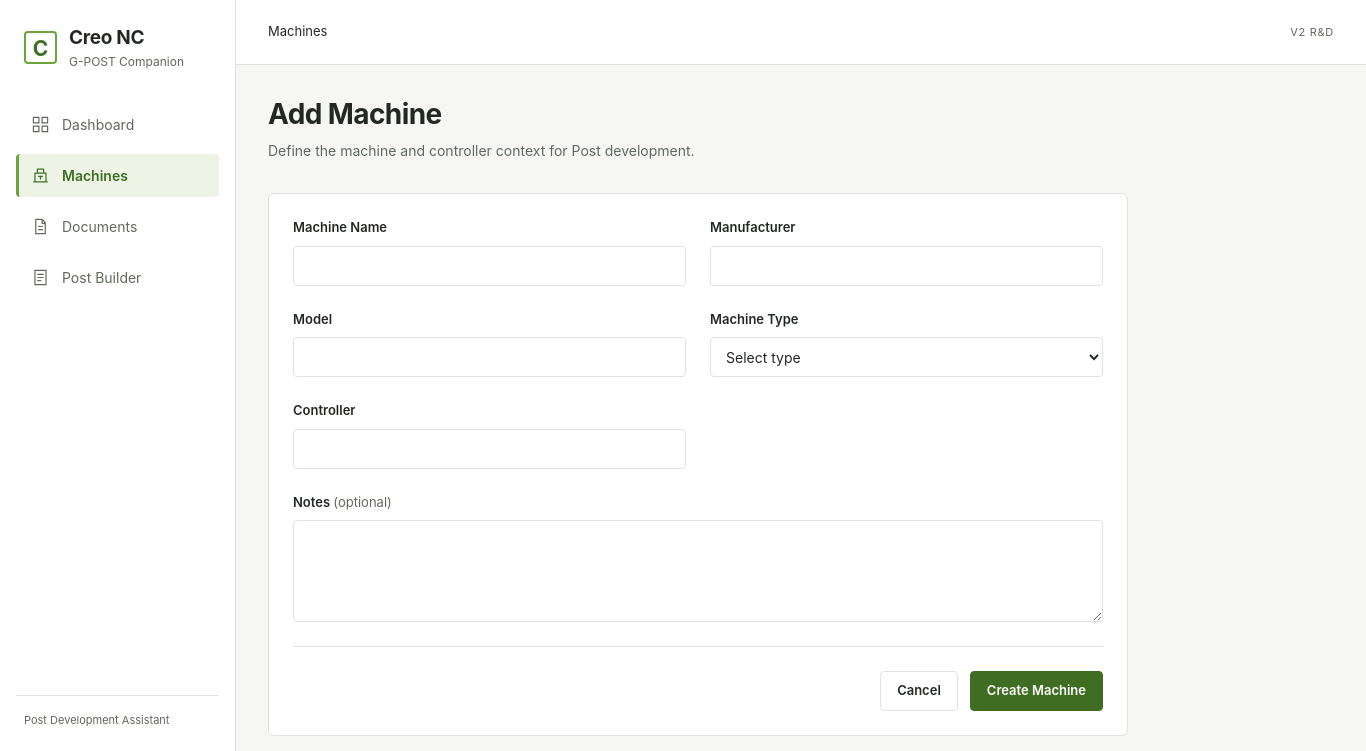
Test: Machine management › shows backend validation and preserves entered values
In the field labelled "Machine Name": (490, 266) x1=293 y1=246 x2=686 y2=286, type " KLS-1840N Demo "
In the field labelled "Manufacturer": (906, 266) x1=710 y1=246 x2=1103 y2=286, type " KENT "
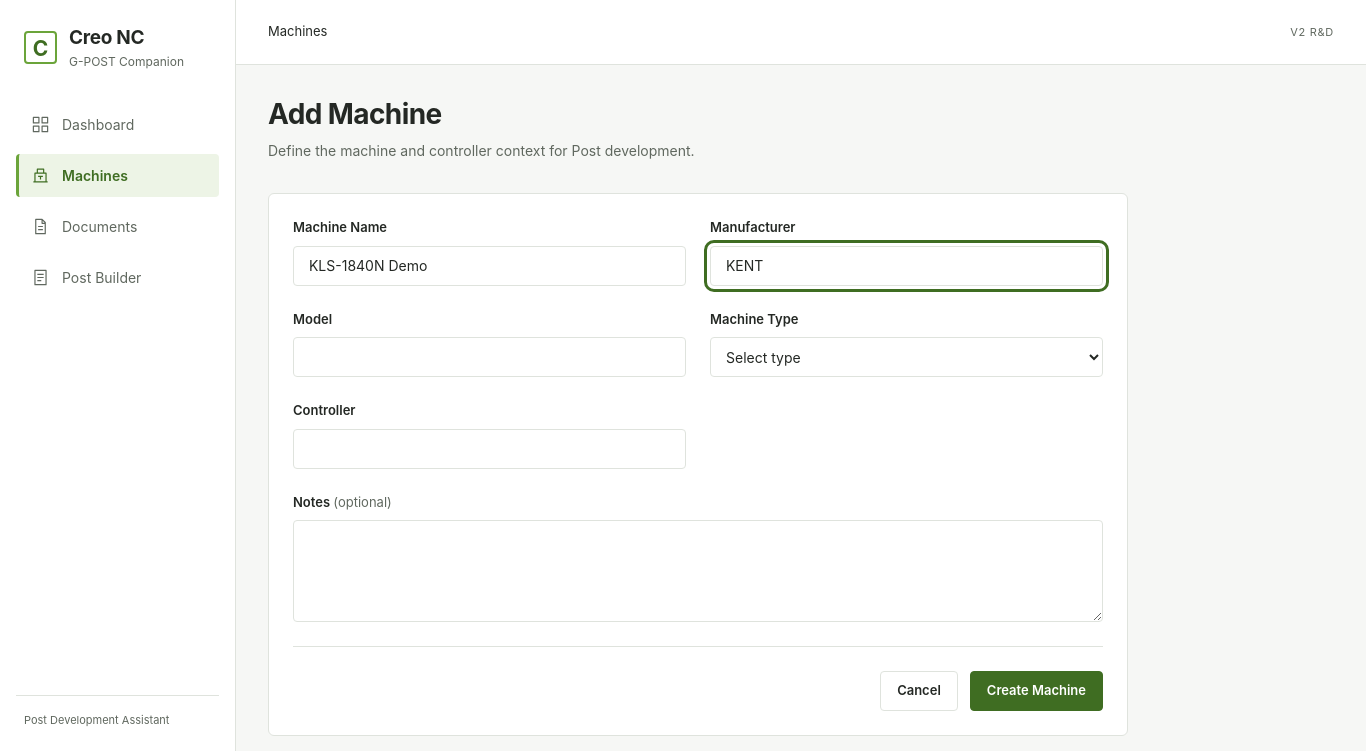
In the field labelled "Model": (490, 357) x1=293 y1=337 x2=686 y2=377, type " KLS-1840N "
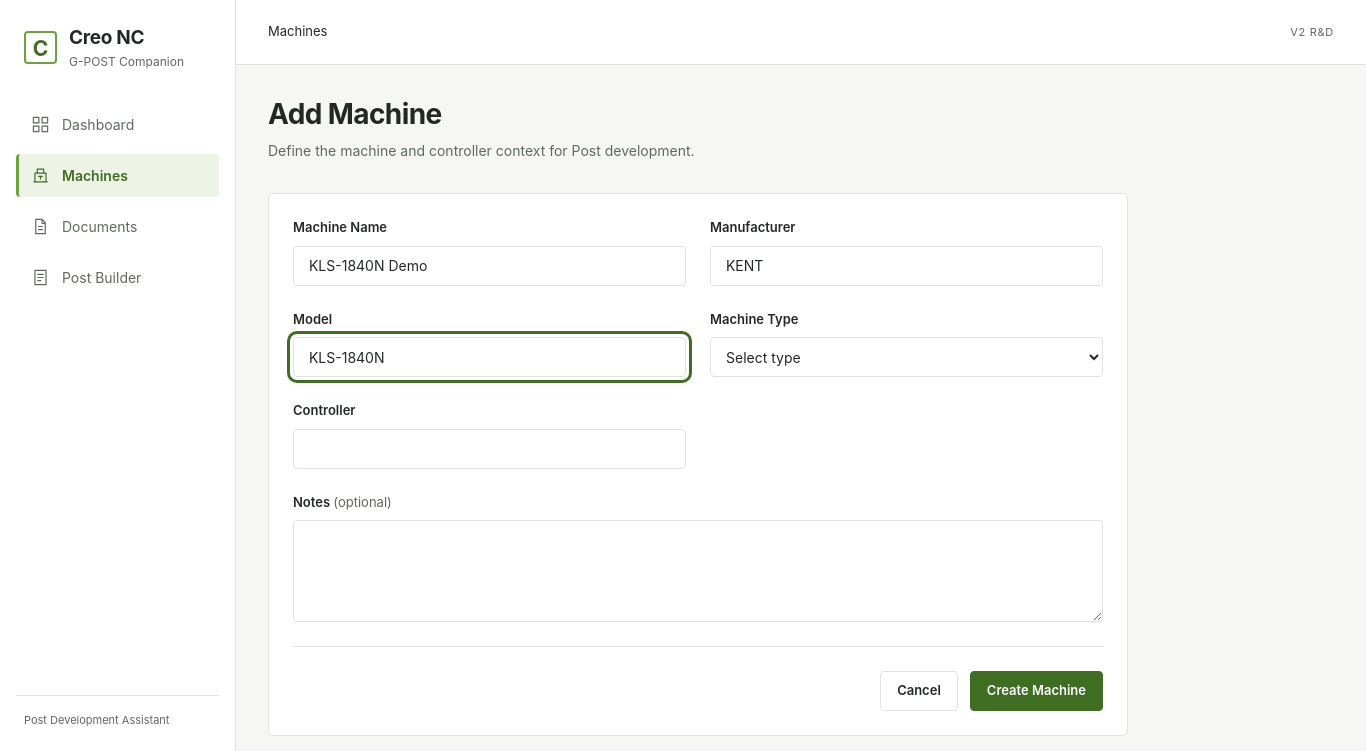
In the field labelled "Controller": (490, 448) x1=293 y1=428 x2=686 y2=468, type " FANUC 0i-TF "
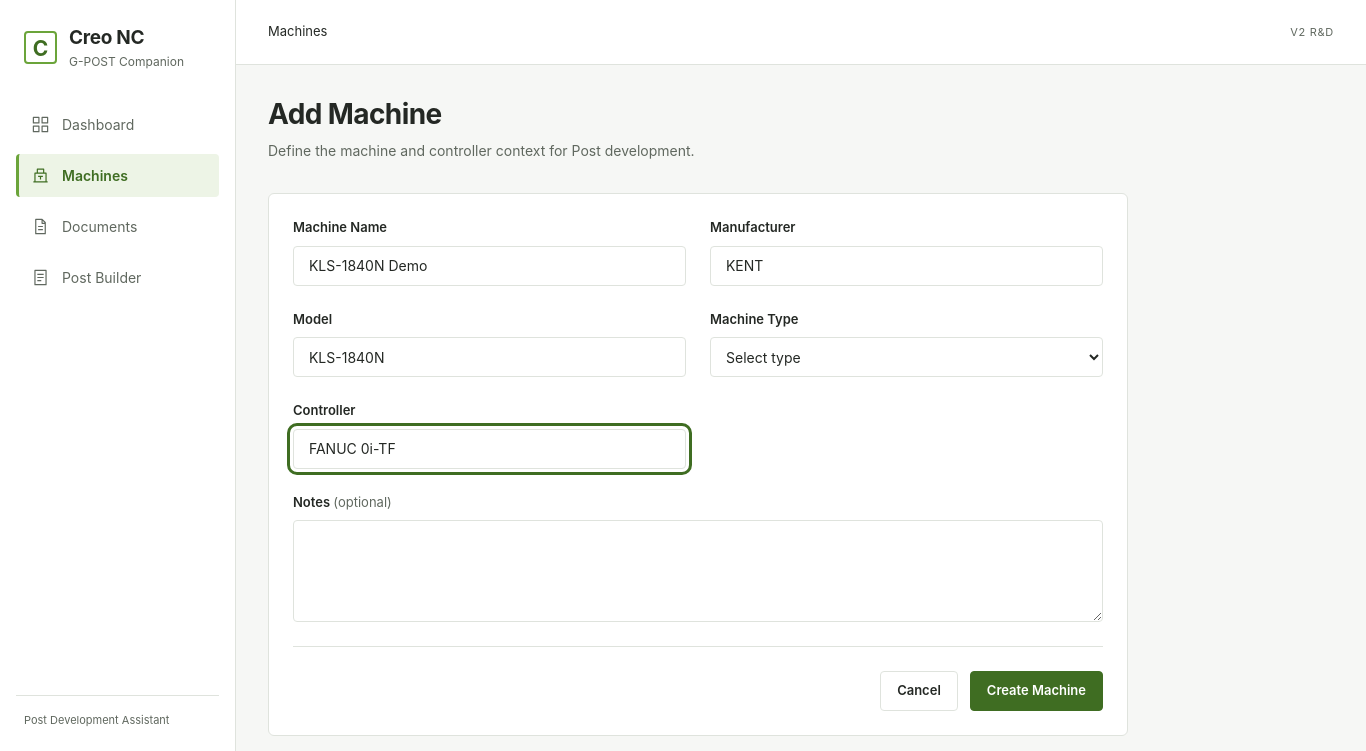
Select "Lathe" in the dropdown labelled "Machine Type": (906, 357) x1=710 y1=337 x2=1103 y2=377
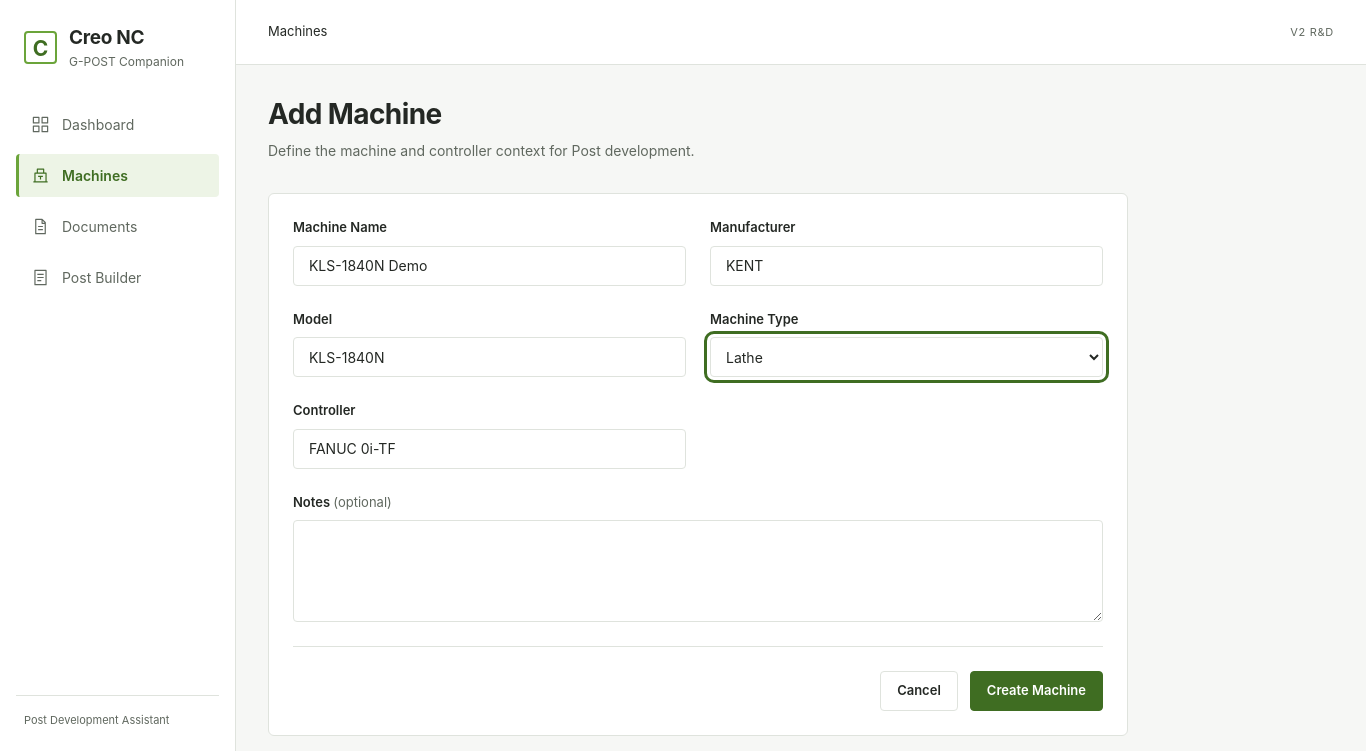
In the text box labelled "Notes (optional)": (698, 571) x1=293 y1=520 x2=1103 y2=622, type " V2 demo machine "
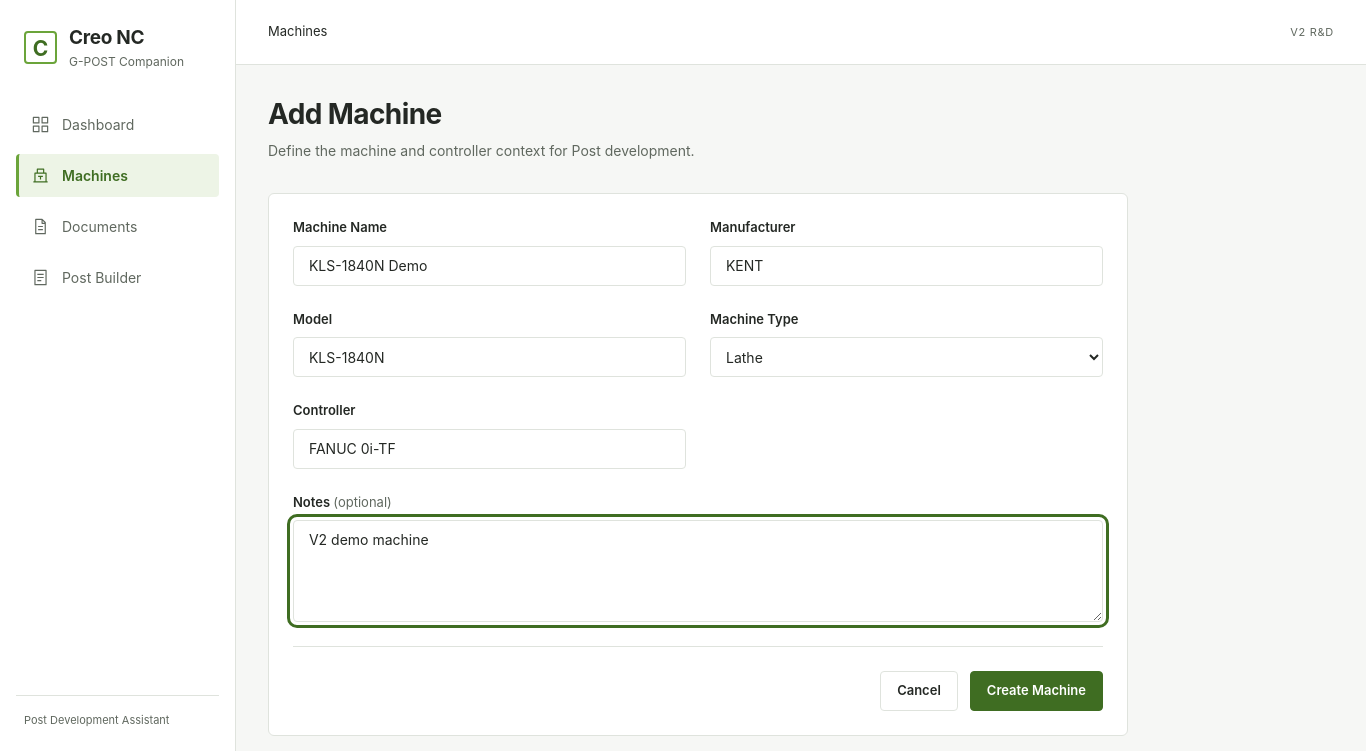
Click the button "Create Machine": (1036, 691) x1=970 y1=671 x2=1103 y2=711
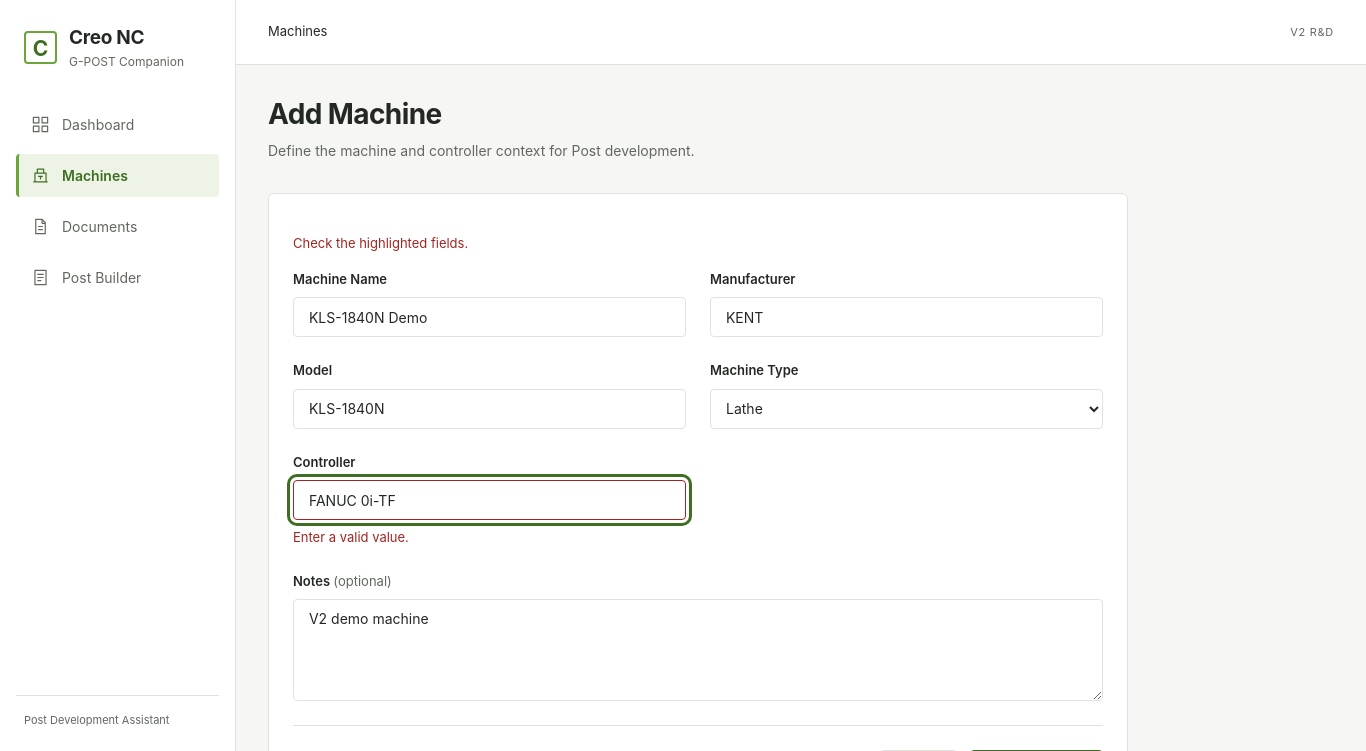
Expected: the message shows "Check the highlighted fields", x1=293 y1=235 x2=468 y2=251
